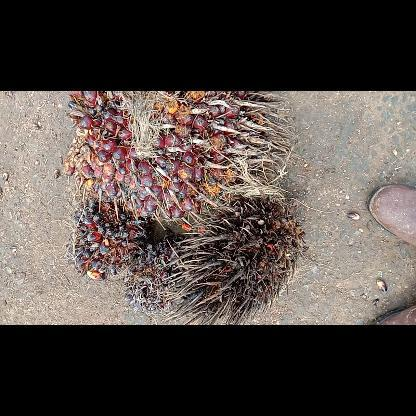Janjang kosong: (169, 192, 306, 324)
TBS abnormal: (66, 197, 156, 283), (119, 232, 194, 318)
TBS masak: (58, 92, 296, 224)
